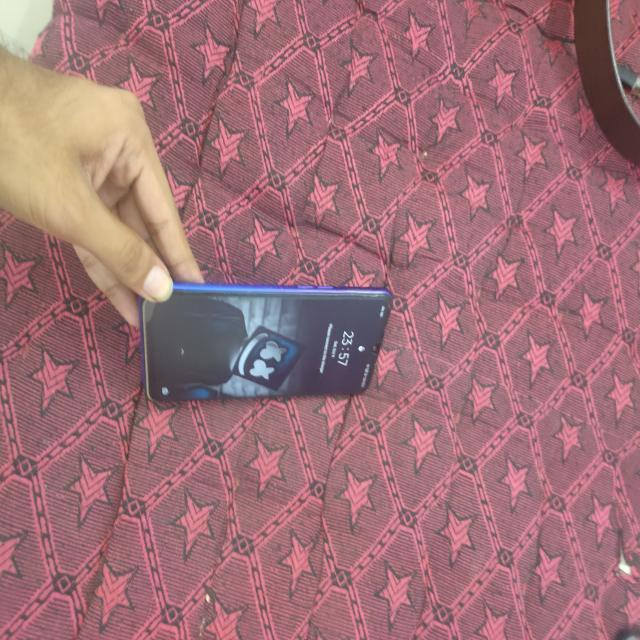Phone: (139, 284, 395, 408)
